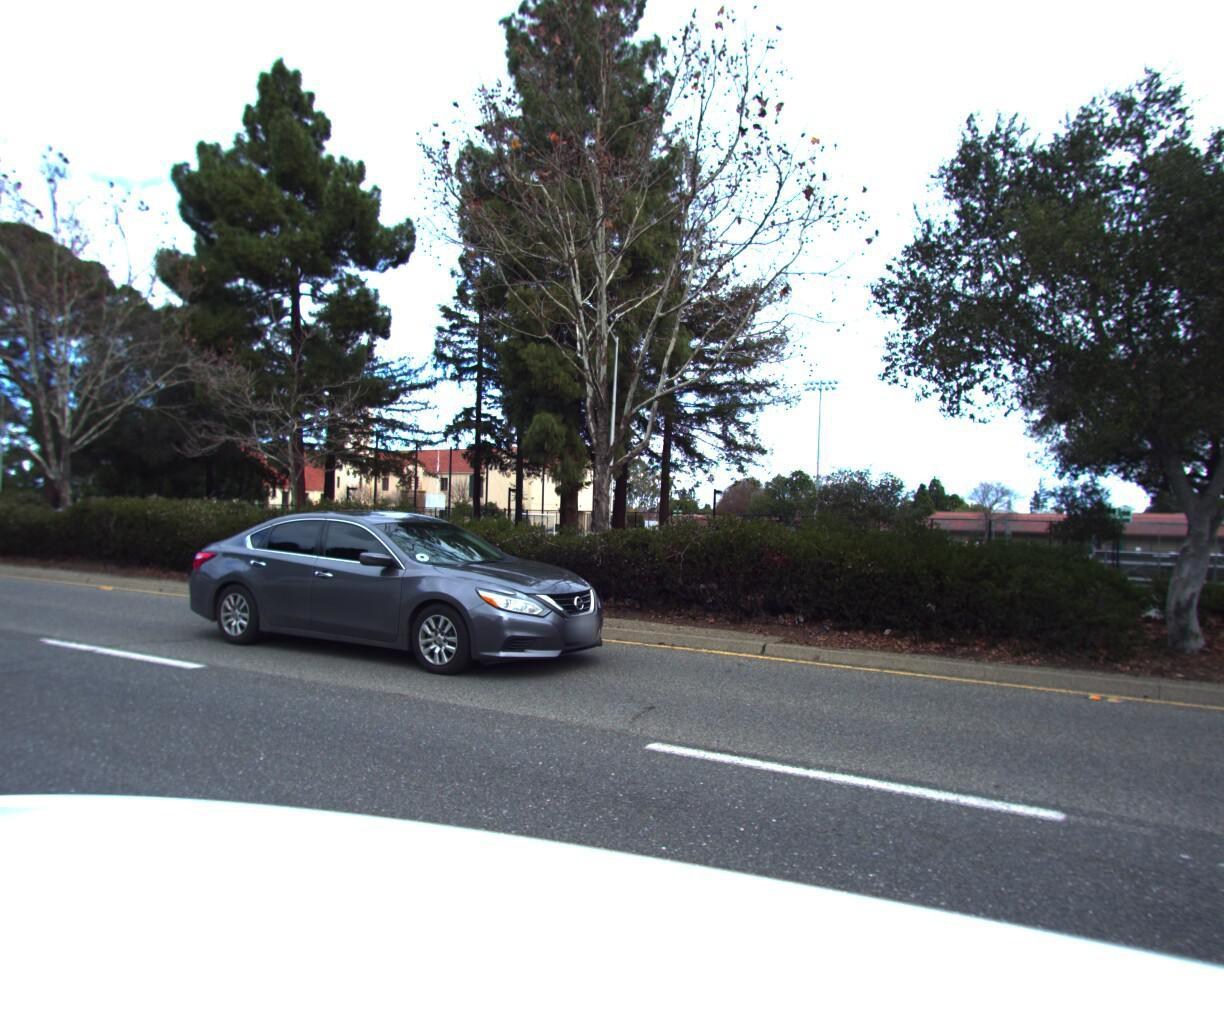car: (186, 500, 637, 687)
